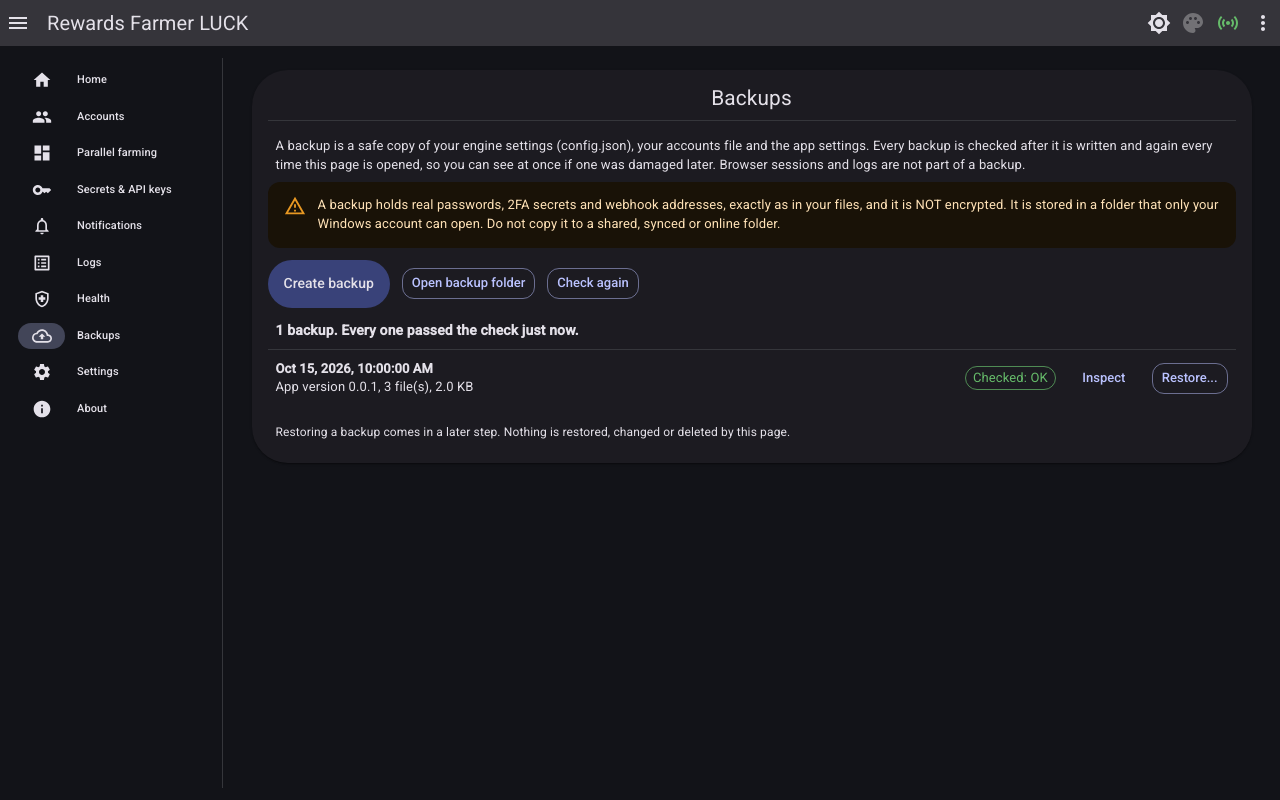
Scenario: Restore window (stand-in bridge) › nothing to change: no safety copy button works and the text says so
Click the button with aria-label "Restore backup from". click: click(1190, 378)
box: [1152,363,1228,394]
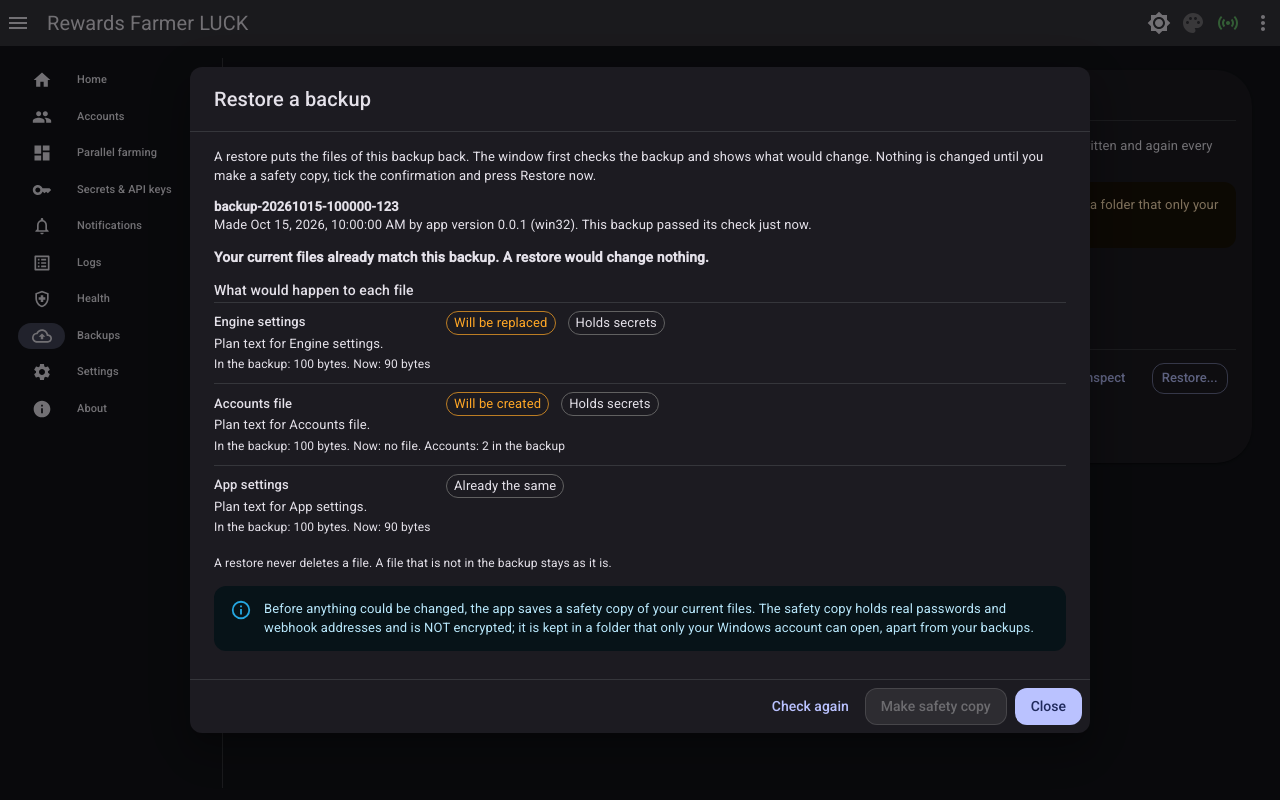
Now the message with test id "restore-summary" reads "Your current files already match this backup. A restore would change nothing.", box [214,249,709,265]
Now the button "Make safety copy" is disabled, box [865,688,1007,725]
